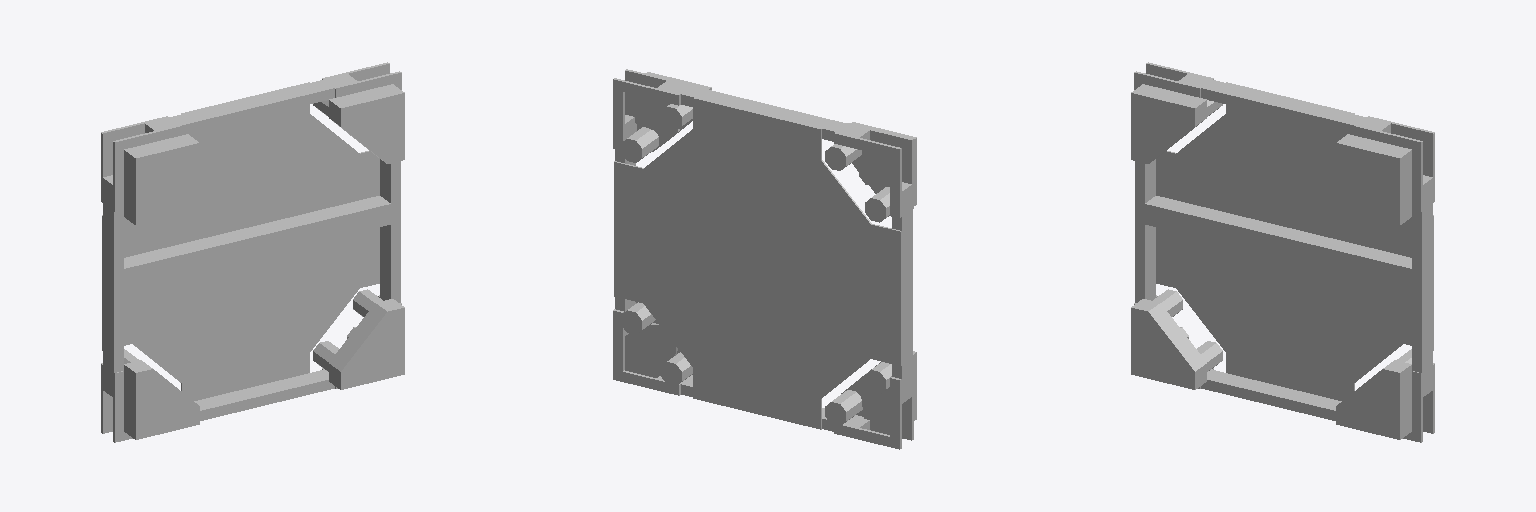
The model's file is 1778 simplified-drivetrain-2025-08-09 22-22-43.obj.
3 views of the same model, side by side, from view 1: azimuth 30°, elevation 25°; view 2: azimuth 150°, elevation 25°; view 3: azimuth 330°, elevation 25° (orthographic).
Parts seen in each view (by area): view 1: mesh90, mesh49, mesh53, mesh8, mesh69, mesh21, mesh60, mesh81, mesh32, mesh43, mesh15, mesh101 (+11 smaller); view 2: mesh89, mesh81, mesh43, mesh107, mesh27, mesh3, mesh75, mesh45, mesh83, mesh34, mesh97; view 3: mesh90, mesh49, mesh53, mesh21, mesh60, mesh8, mesh69, mesh103, mesh32, mesh43, mesh15, mesh101 (+11 smaller).
Boxes of the visible parts, x1,y1,x2,y2 form: mesh90: [124, 227, 379, 400]; mesh49: [124, 105, 379, 257]; mesh53: [114, 161, 400, 372]; mesh8: [341, 93, 404, 163]; mesh69: [341, 308, 404, 389]; mesh21: [136, 143, 199, 225]; mesh60: [136, 369, 199, 439]; mesh81: [101, 133, 114, 442]; mesh32: [124, 196, 390, 268]; mesh43: [101, 62, 401, 141]; mesh15: [181, 88, 334, 135]; mesh101: [194, 368, 328, 410]; mesh89: [614, 98, 900, 429]; mesh81: [900, 139, 913, 448]; mesh43: [614, 69, 912, 148]; mesh107: [625, 325, 676, 377]; mesh27: [859, 130, 911, 186]; mesh3: [625, 71, 677, 136]; mesh75: [859, 375, 911, 440]; mesh45: [834, 133, 899, 218]; mesh83: [834, 378, 899, 449]; mesh34: [613, 79, 678, 149]; mesh97: [613, 311, 678, 395]; mesh90: [1156, 227, 1411, 400]; mesh49: [1156, 105, 1411, 257]; mesh53: [1135, 161, 1421, 372]; mesh21: [1131, 93, 1194, 163]; mesh60: [1131, 308, 1194, 389]; mesh8: [1336, 143, 1399, 225]; mesh69: [1336, 369, 1399, 439]; mesh103: [1421, 133, 1434, 442]; mesh32: [1145, 196, 1411, 268]; mesh43: [1134, 62, 1434, 141]; mesh15: [1201, 88, 1354, 135]; mesh101: [1207, 368, 1341, 410].
Bounding box in the file's own units: 0.7366 × 0.7366 × 0.1284.